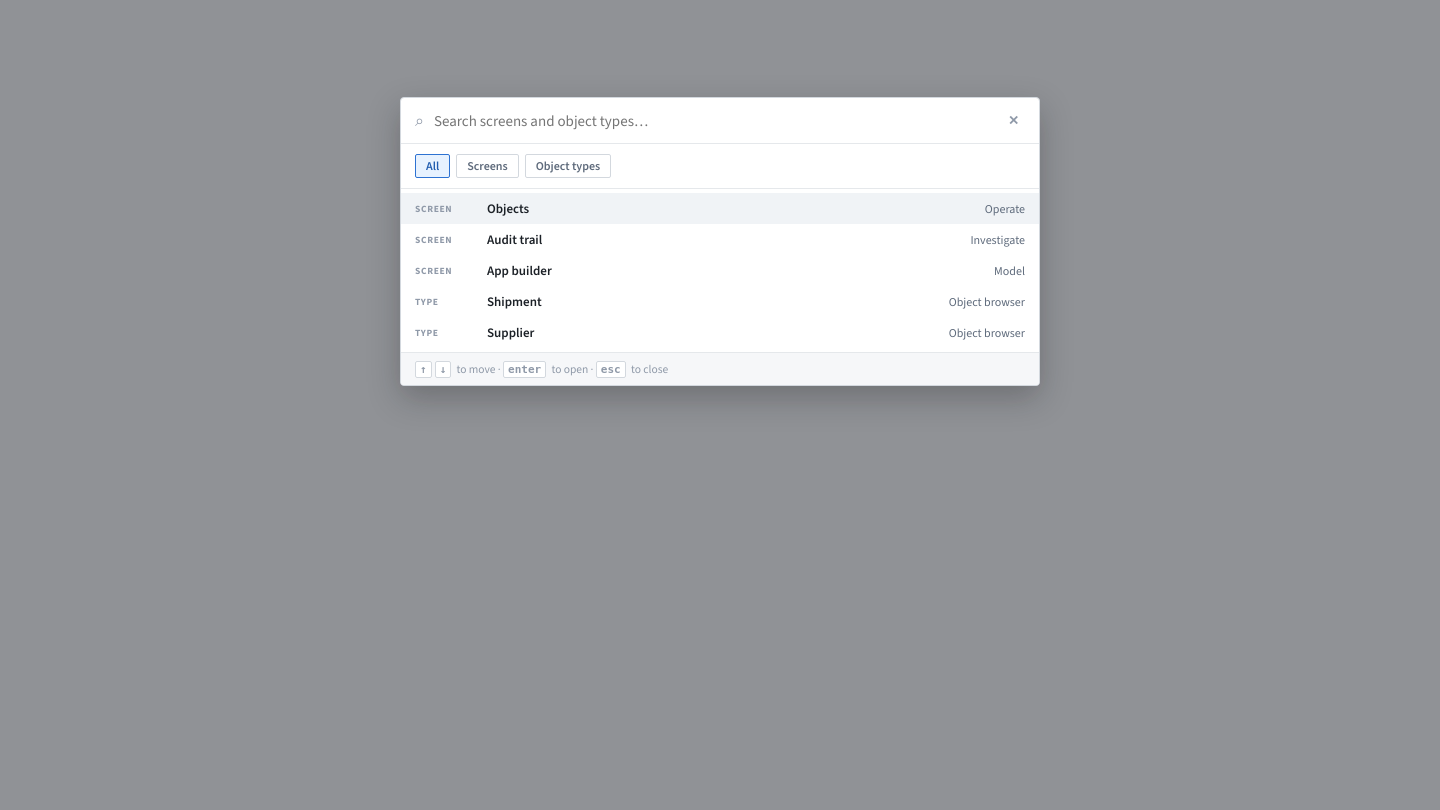
Test case: QuickSearch › matches on substring across screens and types
The image size is (1440, 810).
Type "ship" into the field labelled "Search screens and object types" at (713, 121), box [434,111,992,131]
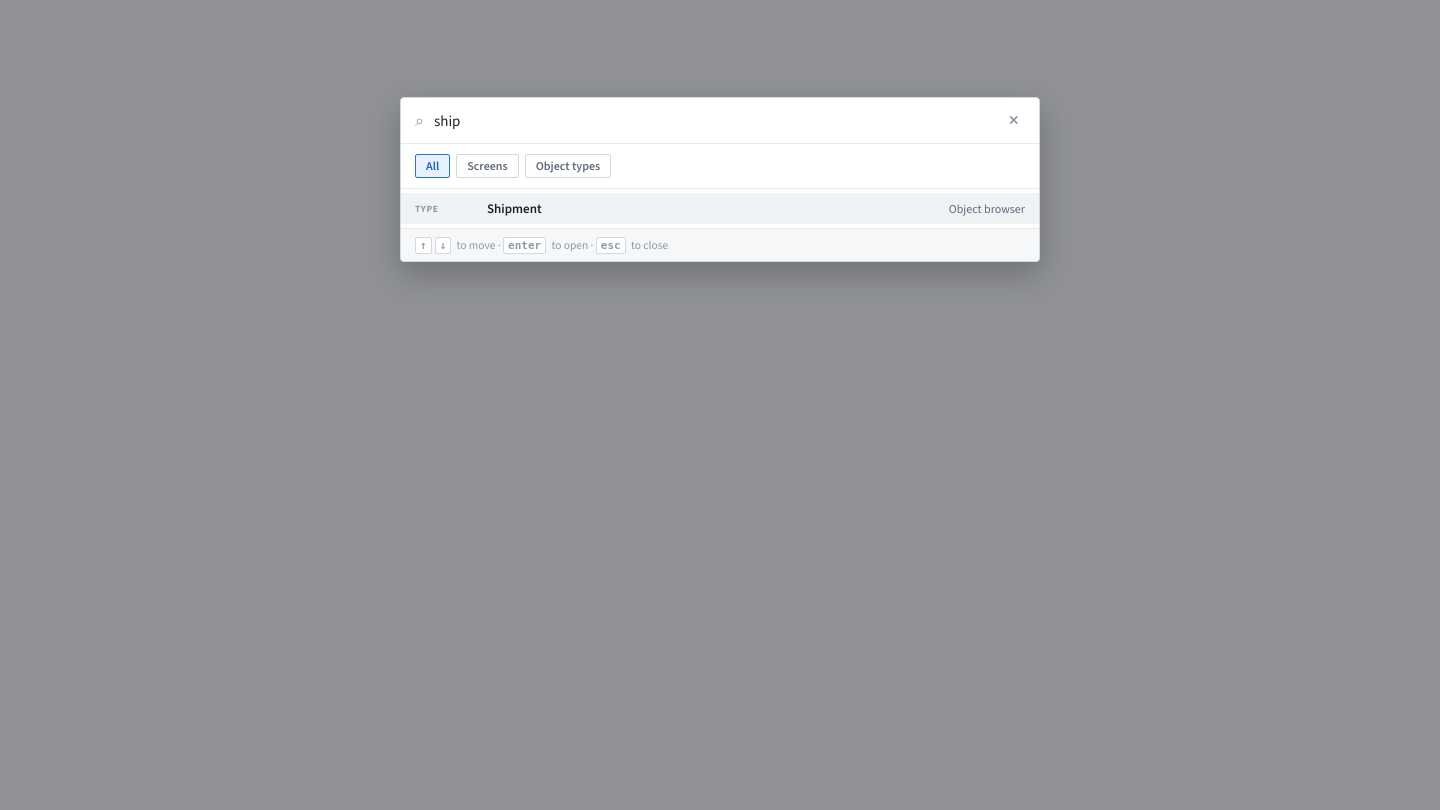
Expected: the text "Shipment" is shown, [487,200,542,217]
Result: the button "Audit trail" is gone
